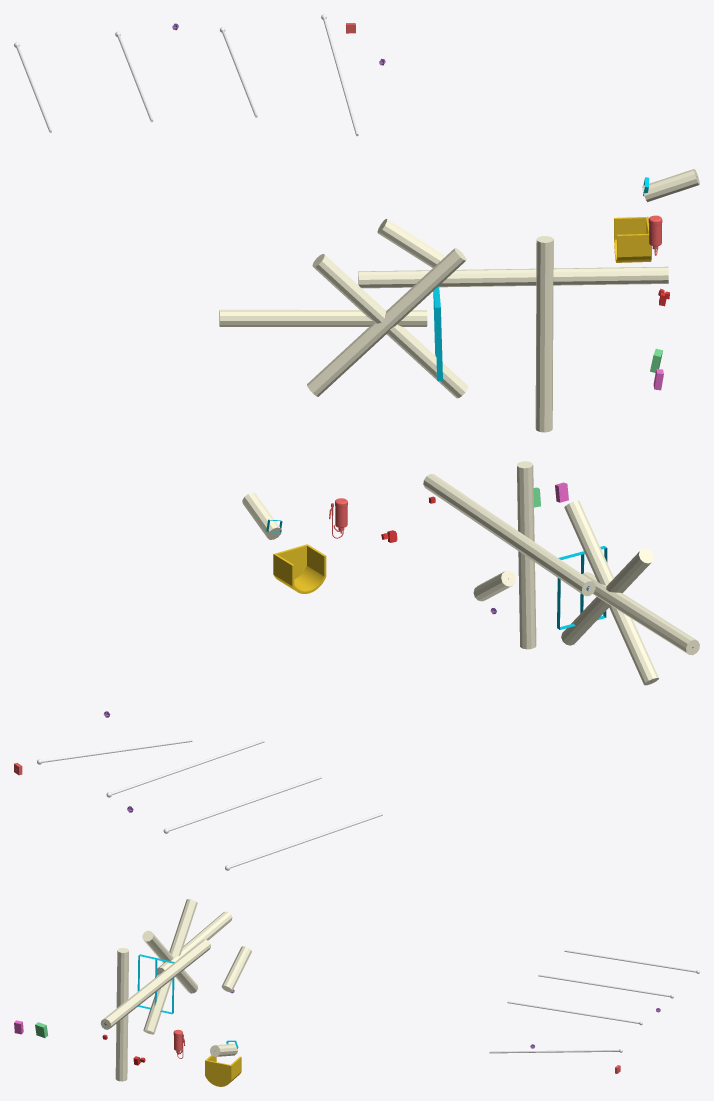
The model's file is tile_96.glb.
The picture shows the model from 3 angles, top to bottom: view 1: azimuth 30°, elevation 25°; view 2: azimuth 150°, elevation 25°; view 3: azimuth 270°, elevation 25°; orthographic projection. The views are drawn at different scales.
Bounding box in the file's own units: 7.95 × 3 × 14.43.
